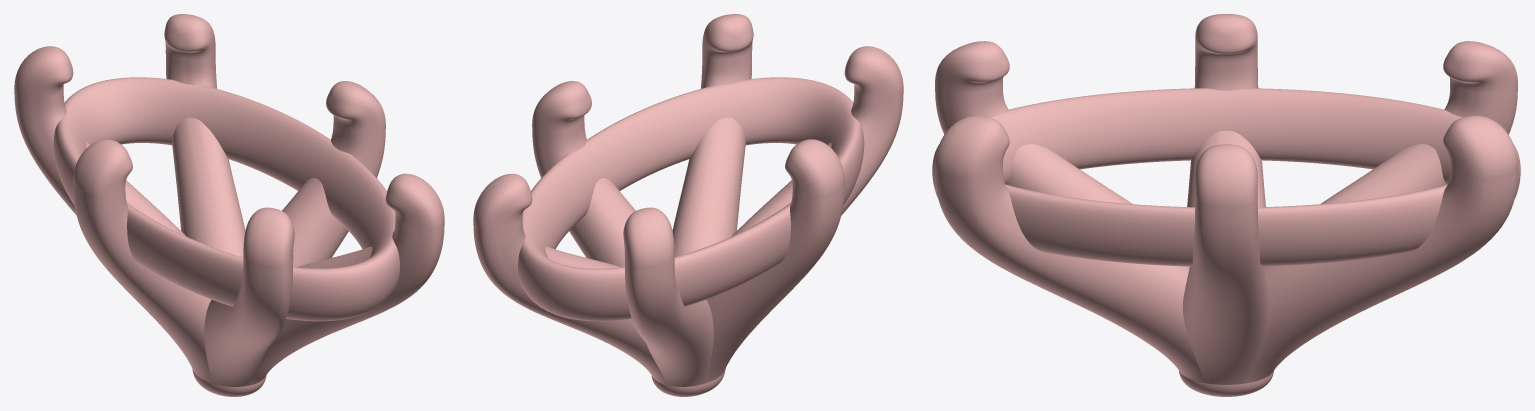
File: MOVAL.glb
3 renders of one model, left to right at view 1: azimuth 30°, elevation 25°; view 2: azimuth 150°, elevation 25°; view 3: azimuth 270°, elevation 25°, orthographic. The views are drawn at different scales.
Visible parts, largest first — view 1: oval.001; view 2: oval.001; view 3: oval.001.
Boxes of the visible parts, x1=… form: oval.001: x1=14, y1=14, x2=444, y2=396; oval.001: x1=473, y1=14, x2=903, y2=396; oval.001: x1=932, y1=14, x2=1520, y2=396.
Bounding box in the file's own units: 4.91 × 4.3 × 7.44.
